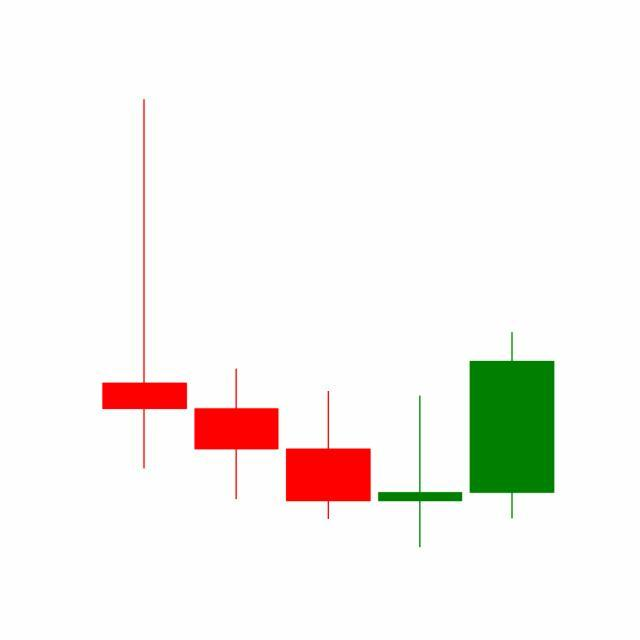Spinning Top: (374, 394, 468, 549)
